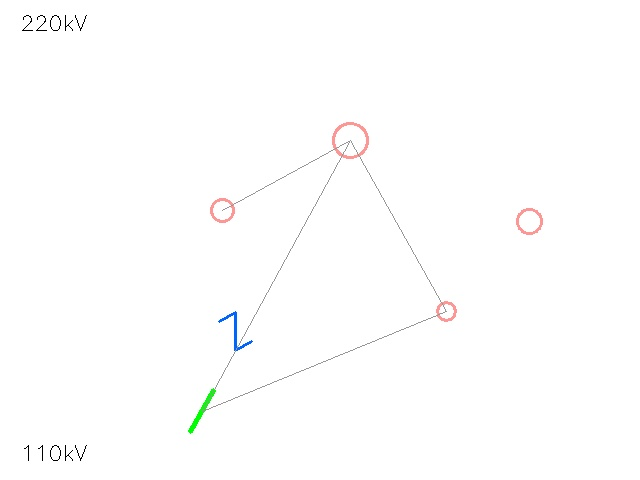busbar: (173, 382, 231, 440)
circuit_breaker: (216, 312, 254, 350)
current_transformer: (505, 197, 553, 245), (427, 292, 465, 330)
voltage_transformer: (316, 106, 384, 174), (199, 187, 245, 233)
